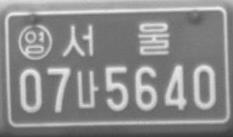0: (18, 67, 44, 114), (192, 63, 217, 111)
4: (163, 63, 187, 111)
5: (103, 65, 130, 113)
6: (133, 64, 158, 112)
7: (45, 65, 72, 113)
나: (75, 69, 98, 109)
서울_D: (61, 20, 170, 58)
영: (17, 23, 53, 60)
